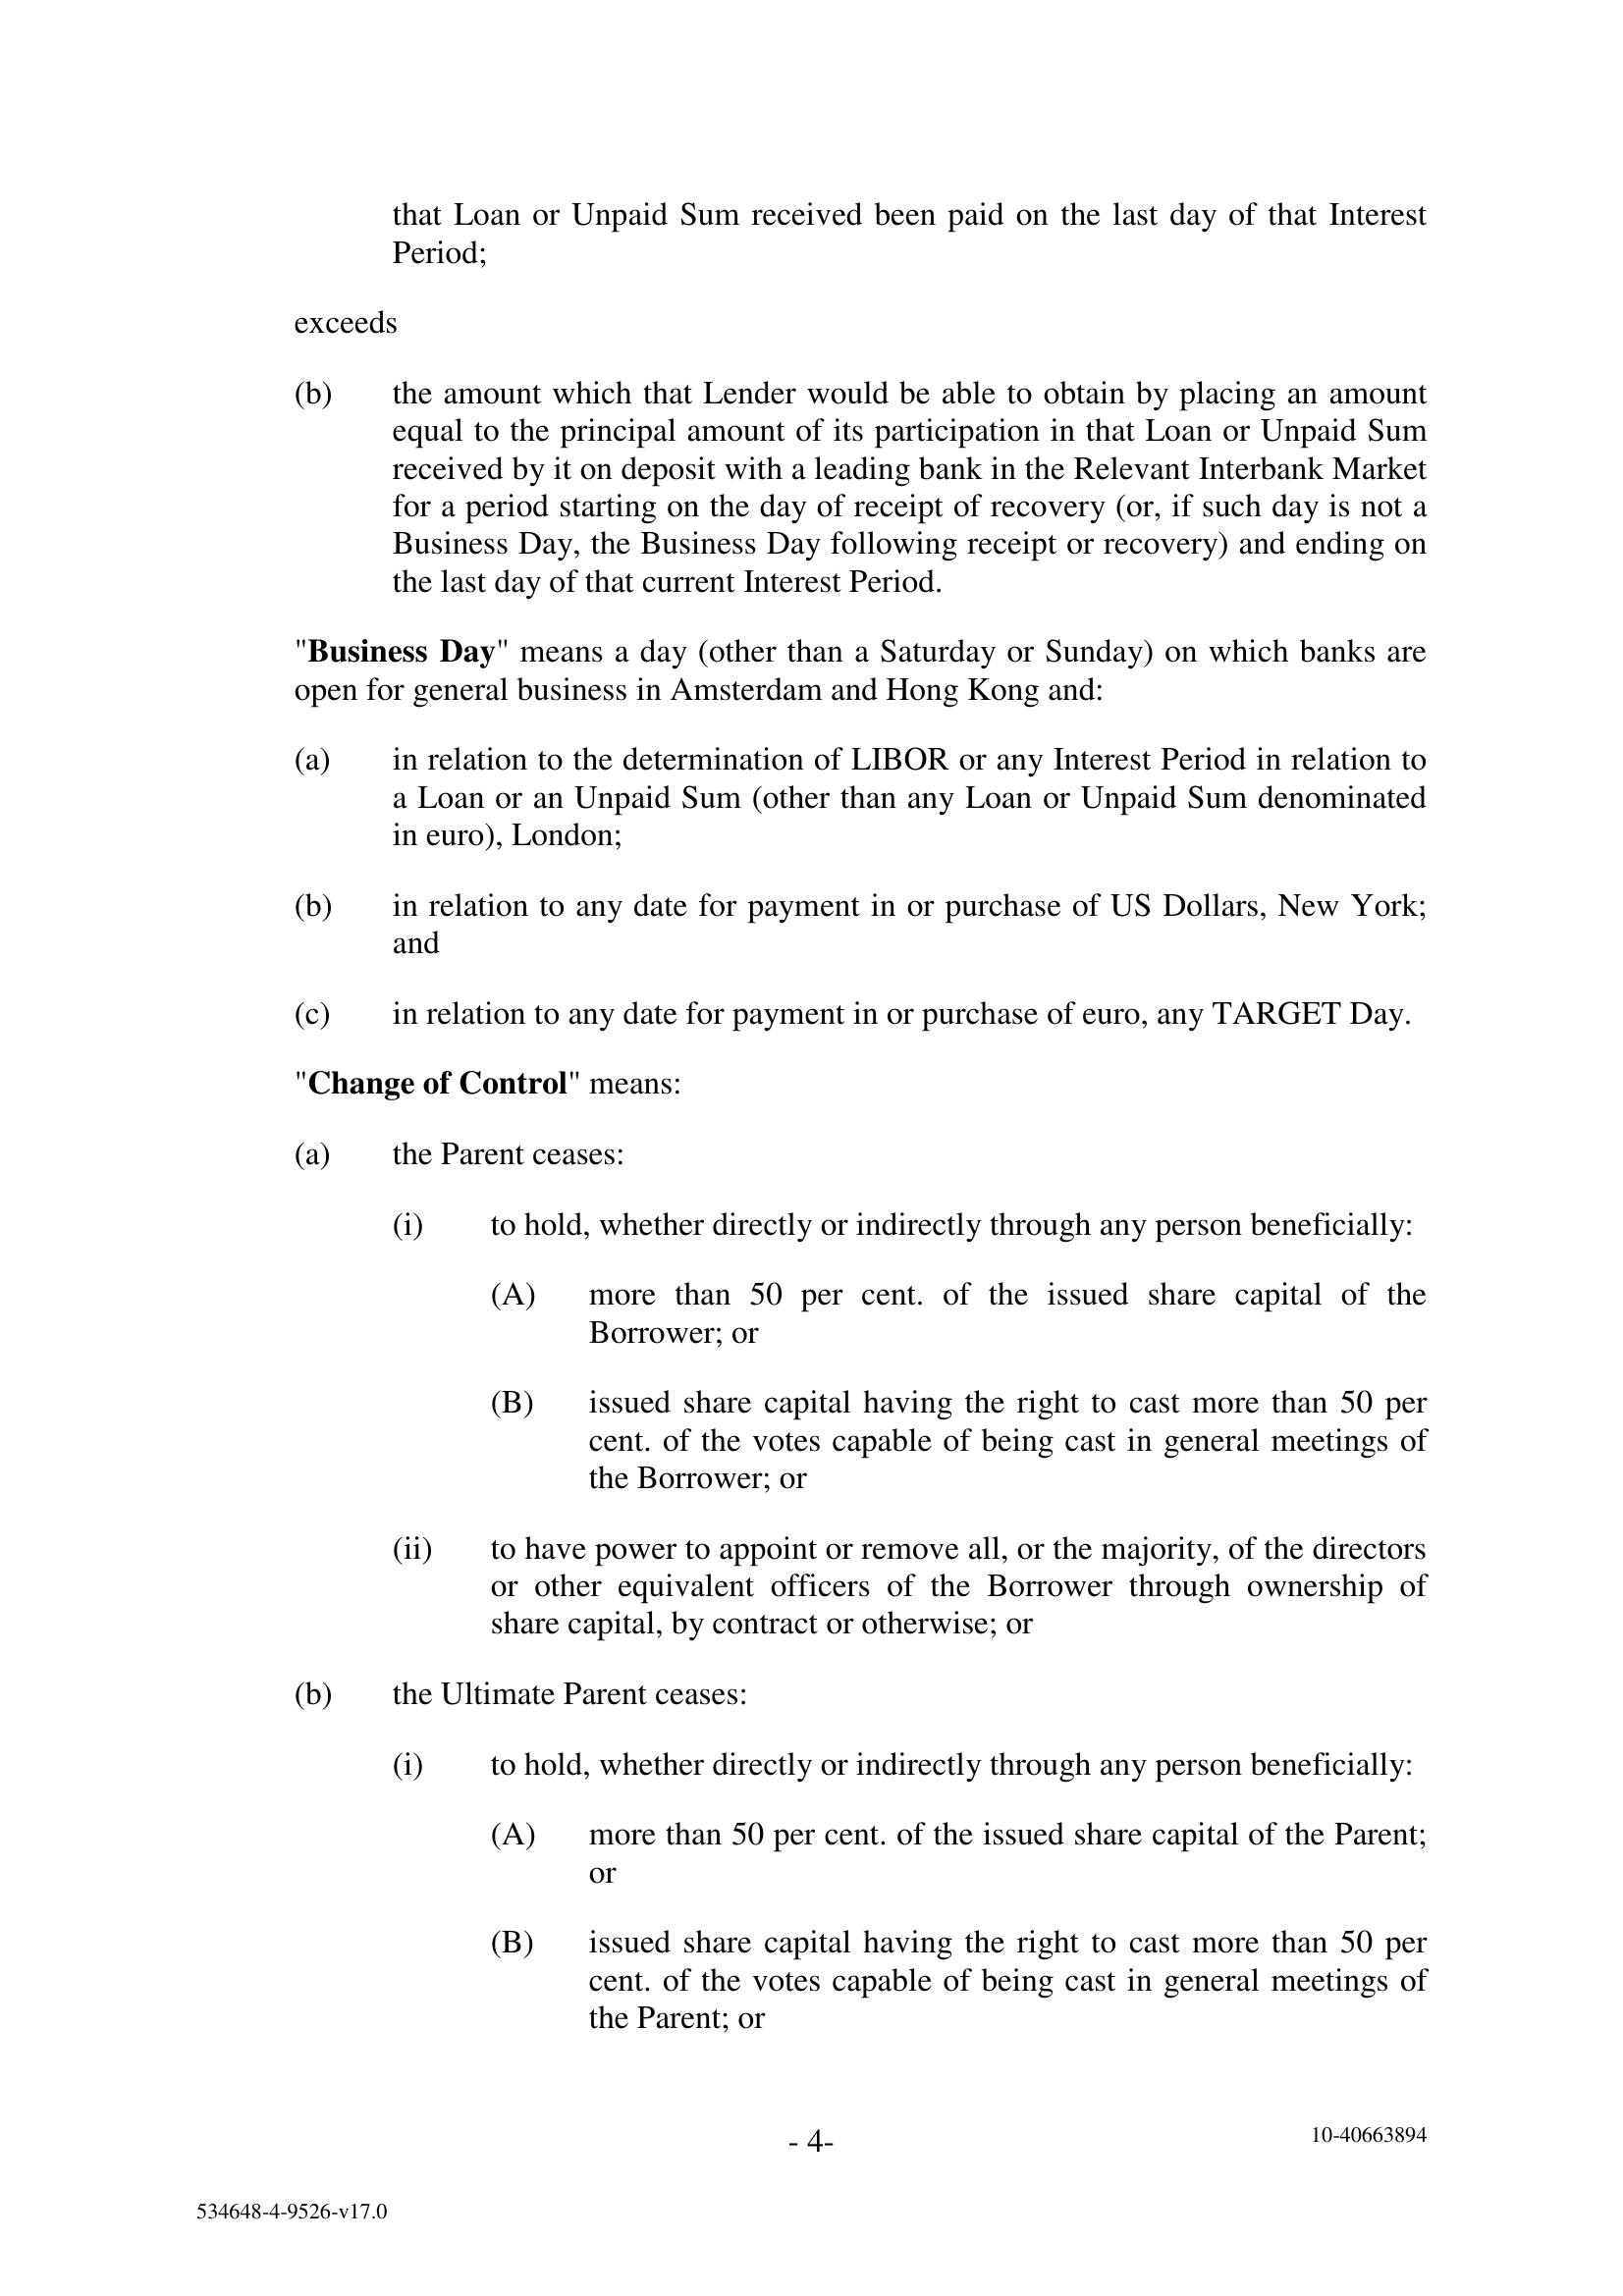pageno: (732, 2085, 901, 2206)
tag: (109, 2157, 471, 2270), (1194, 2087, 1539, 2198)
